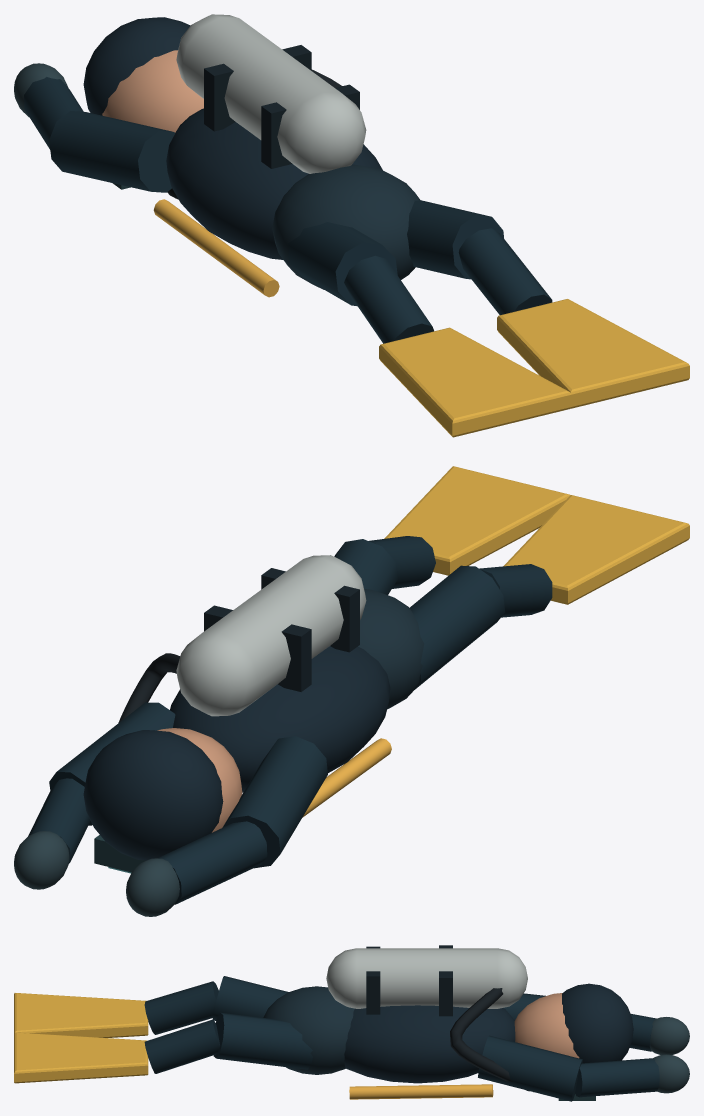
Rendered from diver.glb.
3 renders of one model, top to bottom at view 1: azimuth 30°, elevation 25°; view 2: azimuth 150°, elevation 25°; view 3: azimuth 270°, elevation 25°, orthographic. The views are drawn at different scales.
Visible parts, largest first — view 1: SwimFin (×2), ThighAssembly (×2), WetsuitTorsoAssembly, AirTank, UpperArmAssembly, Hips, Head, TankStrapAssembly, HarnessAssembly, GloveAssembly; view 2: WetsuitTorsoAssembly, SwimFin (×2), UpperArmAssembly, AirTank, ThighAssembly (×2), GloveAssembly, Hips, TankStrapAssembly, Head, HarnessAssembly, BreathingHose, MaskFrame; view 3: WetsuitTorsoAssembly, ThighAssembly (×2), SwimFin (×2), AirTank, UpperArmAssembly, Hips, Head, GloveAssembly, HarnessAssembly, BreathingHose, TankStrapAssembly.
Part boxes in pixels (box(x1,y1,x2,y2)): SwimFin (×2): box(379, 299, 689, 437); ThighAssembly (×2): box(288, 200, 552, 343); WetsuitTorsoAssembly: box(83, 17, 382, 259); AirTank: box(176, 14, 366, 173); UpperArmAssembly: box(24, 77, 175, 192); Hips: box(272, 164, 419, 289); Head: box(102, 50, 203, 132); TankStrapAssembly: box(204, 45, 359, 168); HarnessAssembly: box(153, 199, 279, 297); GloveAssembly: box(14, 63, 68, 116); WetsuitTorsoAssembly: box(83, 646, 390, 860); SwimFin (×2): box(384, 466, 689, 604); UpperArmAssembly: box(28, 702, 327, 904); AirTank: box(176, 555, 366, 716); ThighAssembly (×2): box(334, 536, 552, 690); GloveAssembly: box(14, 831, 179, 916); Hips: box(358, 589, 424, 709); TankStrapAssembly: box(204, 568, 359, 691); Head: box(157, 728, 242, 832); HarnessAssembly: box(302, 738, 391, 817); BreathingHose: box(118, 653, 180, 722); MaskFrame: box(94, 835, 145, 872); WetsuitTorsoAssembly: box(344, 983, 633, 1083); ThighAssembly (×2): box(144, 976, 312, 1073); SwimFin (×2): box(14, 993, 148, 1083); AirTank: box(326, 948, 527, 1008); UpperArmAssembly: box(478, 993, 659, 1101); Hips: box(263, 986, 354, 1074); Head: box(514, 993, 579, 1058); GloveAssembly: box(650, 1017, 689, 1093); HarnessAssembly: box(349, 1084, 493, 1099); BreathingHose: box(450, 988, 529, 1091); TankStrapAssembly: box(366, 945, 452, 1016).
Bounding box in the file's own units: 0.8057 × 0.655 × 2.88.
